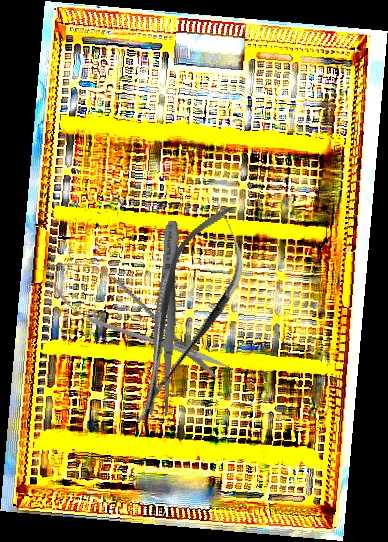Dressing Forceps: (146, 220, 185, 417)
Micro Scissor: (104, 193, 266, 437), (30, 241, 238, 397)
